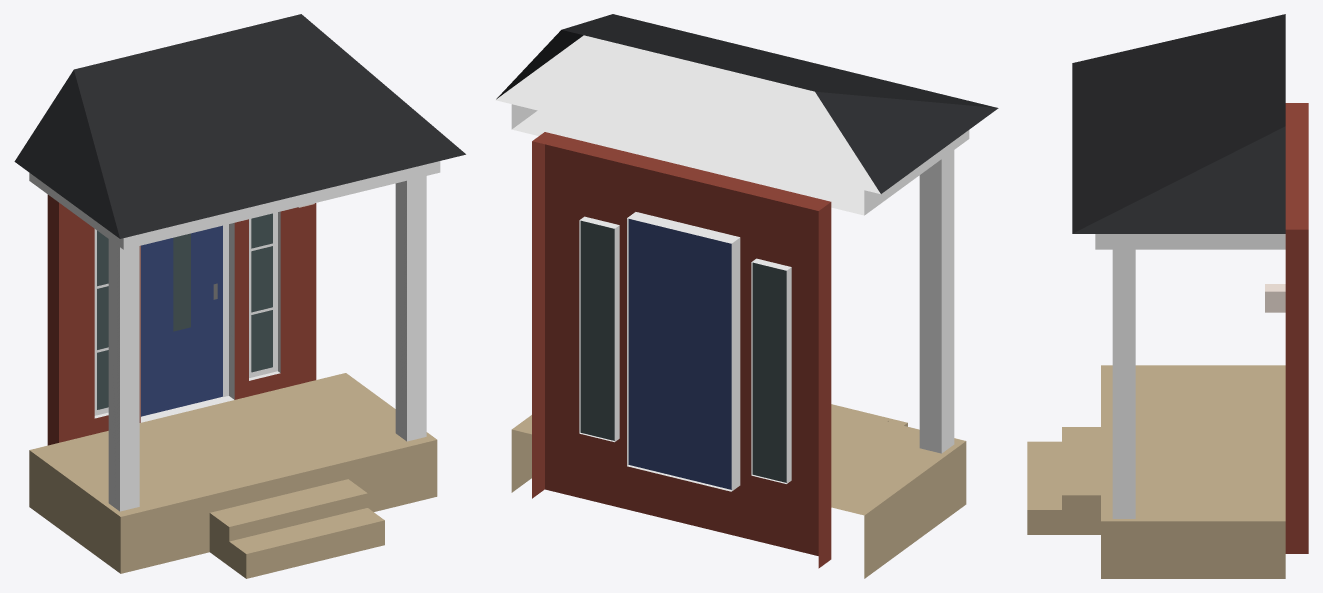
Rendered from entrance.fbx.
The picture shows the model from 3 angles, left to right: view 1: azimuth 30°, elevation 25°; view 2: azimuth 150°, elevation 25°; view 3: azimuth 270°, elevation 25°; orthographic projection. The views are drawn at different scales.
Visible parts, largest first — view 1: a2000/200/entrance; view 2: a2000/200/entrance; view 3: a2000/200/entrance.
Part boxes in pixels (x1,y1,x2,y2): a2000/200/entrance: (14,14,465,578); a2000/200/entrance: (495,14,998,578); a2000/200/entrance: (1027,14,1308,578).
Bounding box in the file's own units: 3.5 × 4.12 × 2.44.
